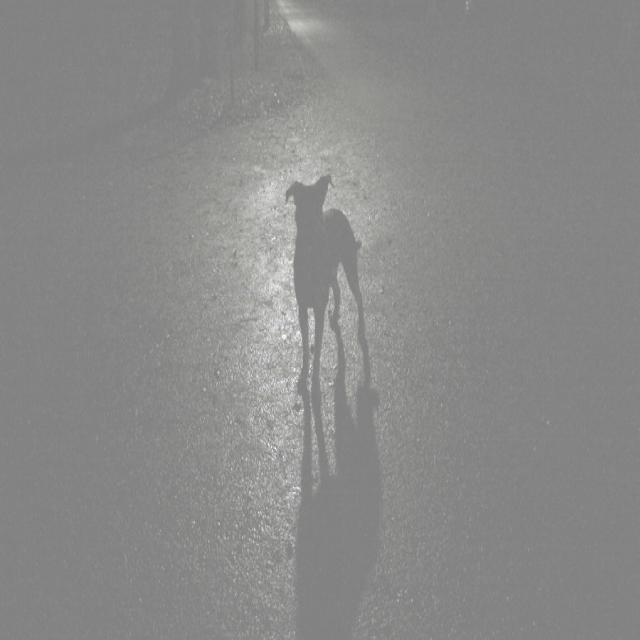Dog: (270, 162, 378, 416)
